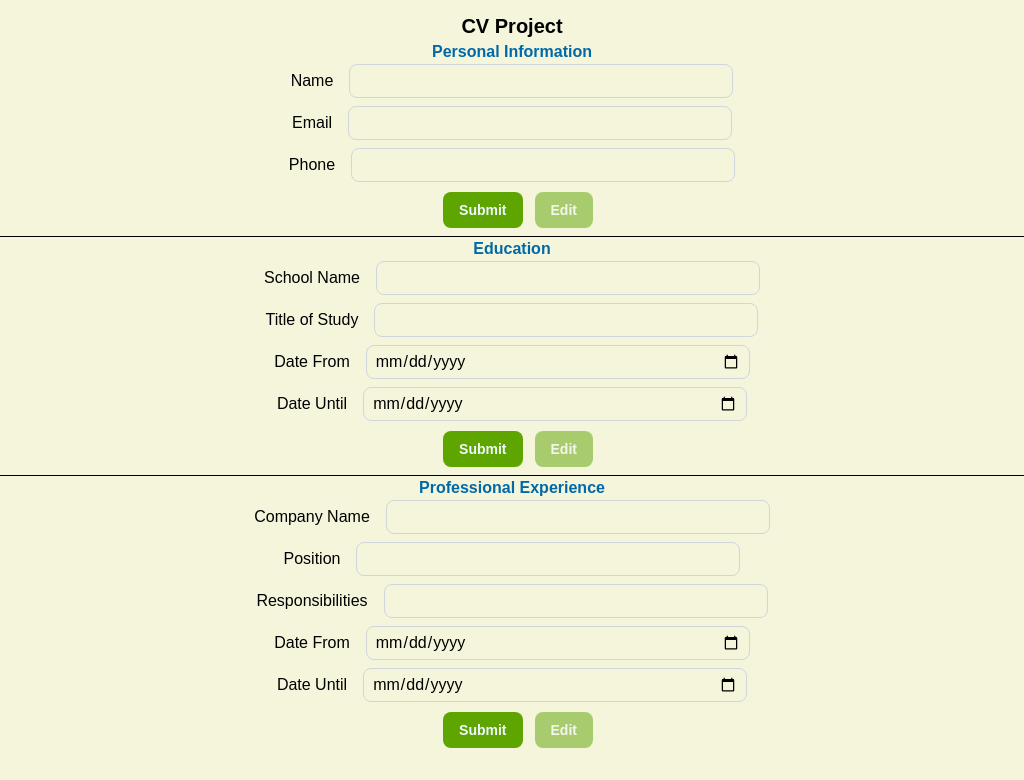
Test: App › renders Experience field inputs
Type "Ikuku IT-Consulting" into the field labelled "Company Name".
click(578, 517); type("Ikuku IT-Consulting")  # box [386,500,770,534]
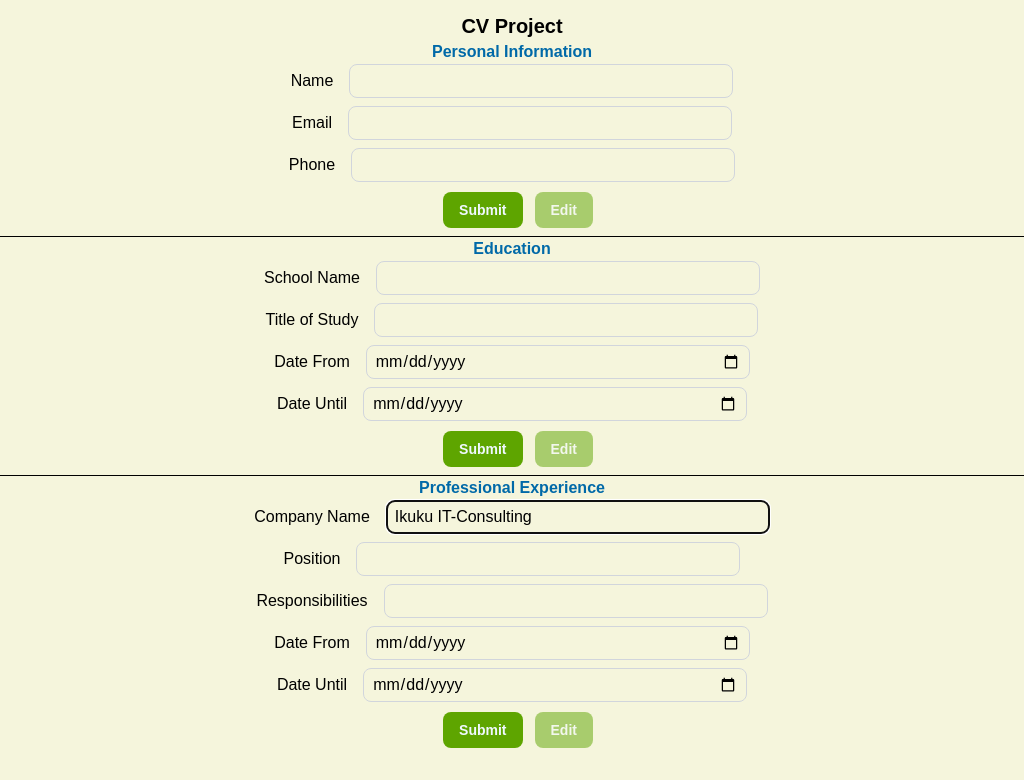
Type "Software Developer and IT-Consultant" into the field labelled "Position".
click(548, 559); type("Software Developer and IT-Consultant")  # box [356,542,740,576]
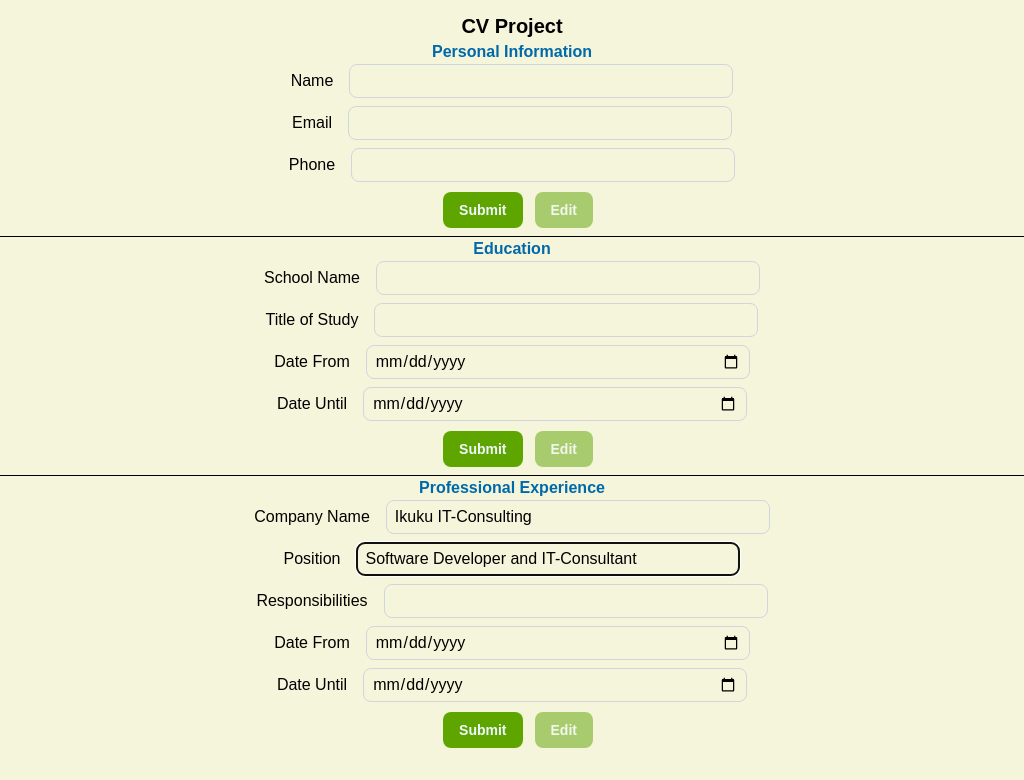
Type "Migration of the Liferay portlets to a new Liferay platform" into the field labelled "Responsibilities".
click(576, 601); type("Migration of the Liferay portlets to a new Liferay platform")  # box [384,584,768,618]
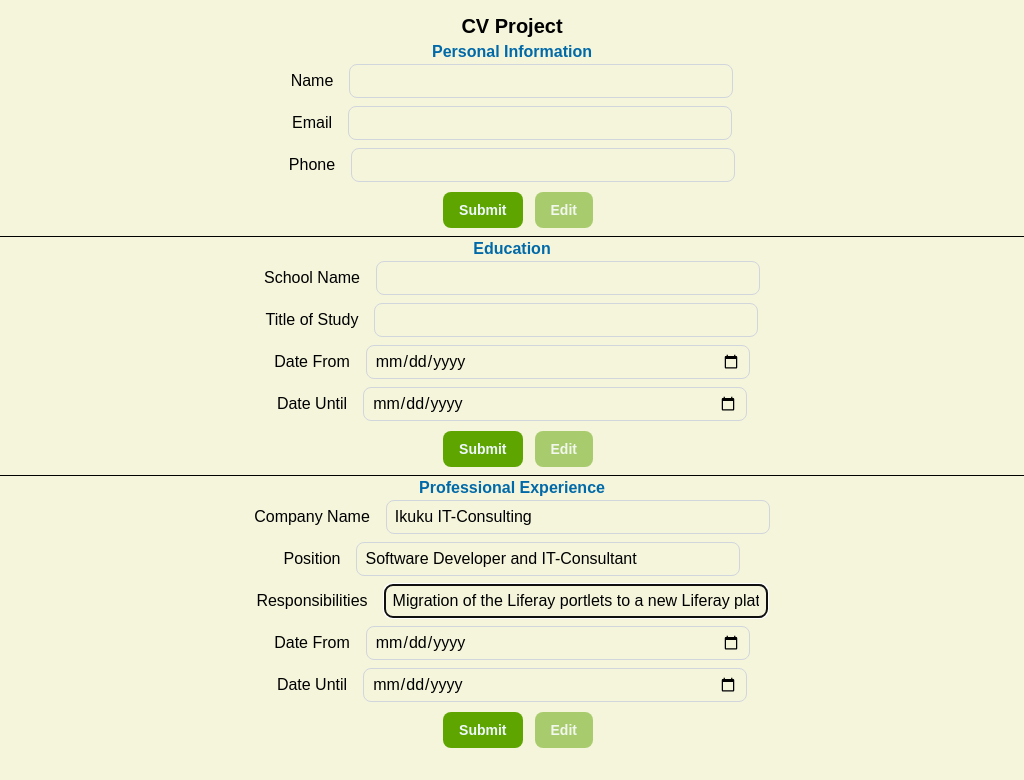
Type "2022-11-01" into the date field labelled "Date From" below "Responsibilities".
click(558, 643); type("2022-11-01")  # box [366,626,750,660]
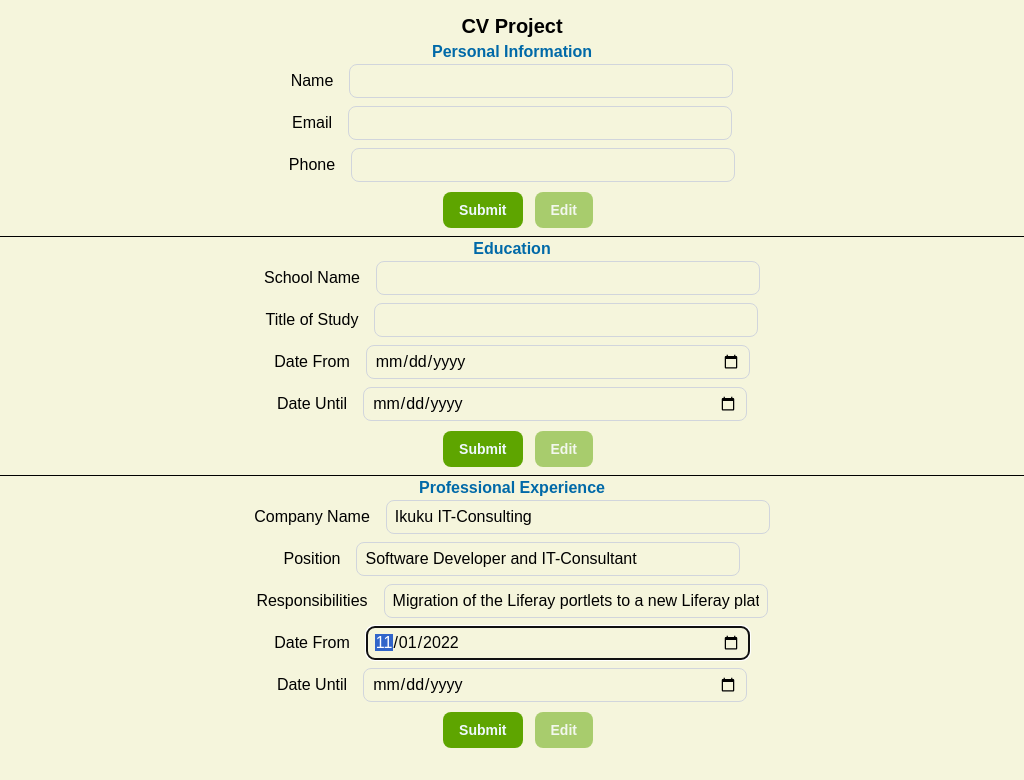
Type "2026-03-31" into the date field labelled "Date Until" below "Responsibilities".
click(555, 685); type("2026-03-31")  # box [363,668,747,702]
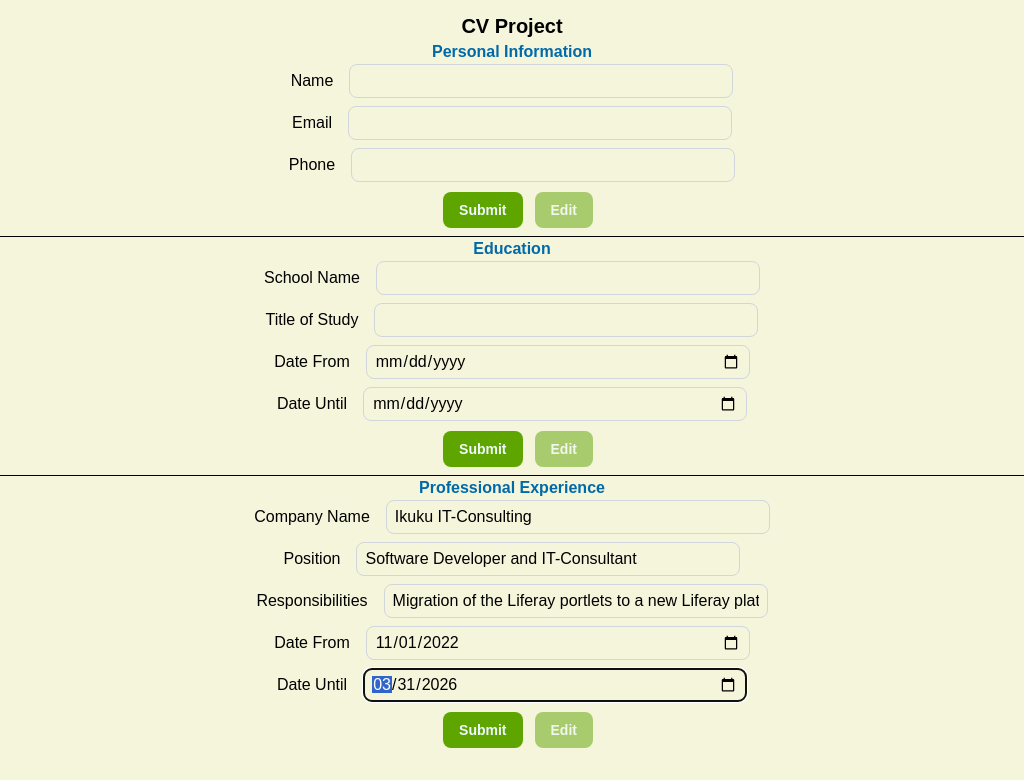
Click the button "Submit" below "Responsibilities".
click(483, 730)  # box [443,712,522,748]
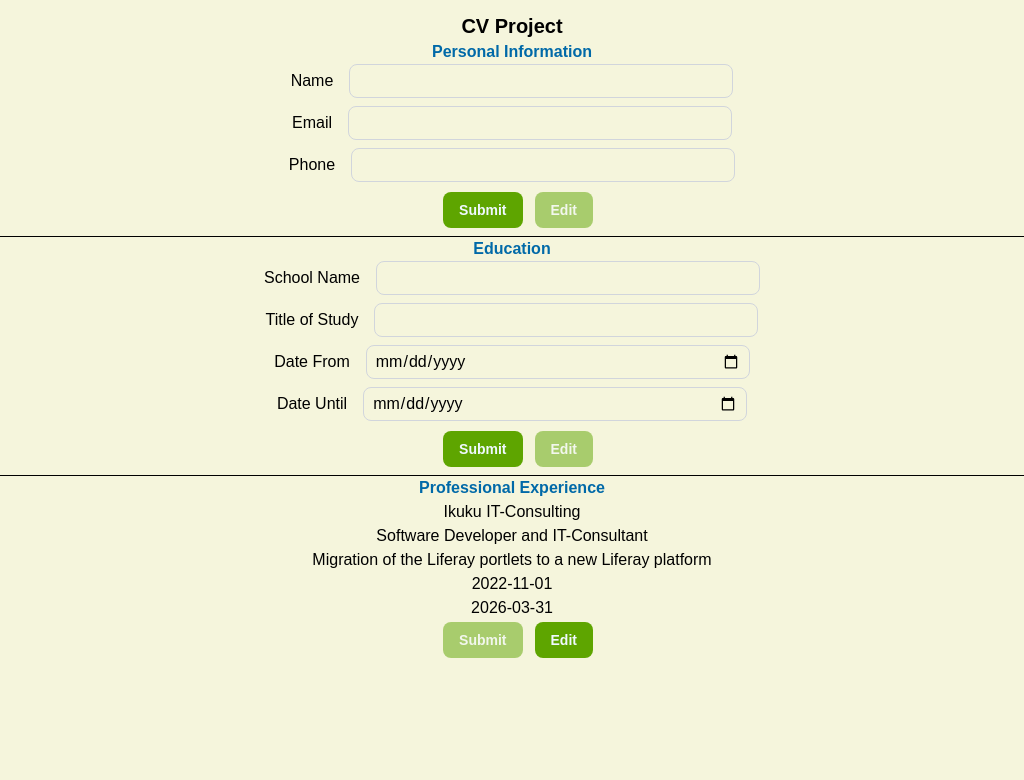
Expected: the text "Ikuku IT-Consulting" is shown, [444,500,580,524]
Expected: the text "Software Developer and IT-Consultant" is shown, [376,524,648,548]
Expected: the text "Migration of the Liferay portlets to a new Liferay platform" is shown, [312,548,712,572]
